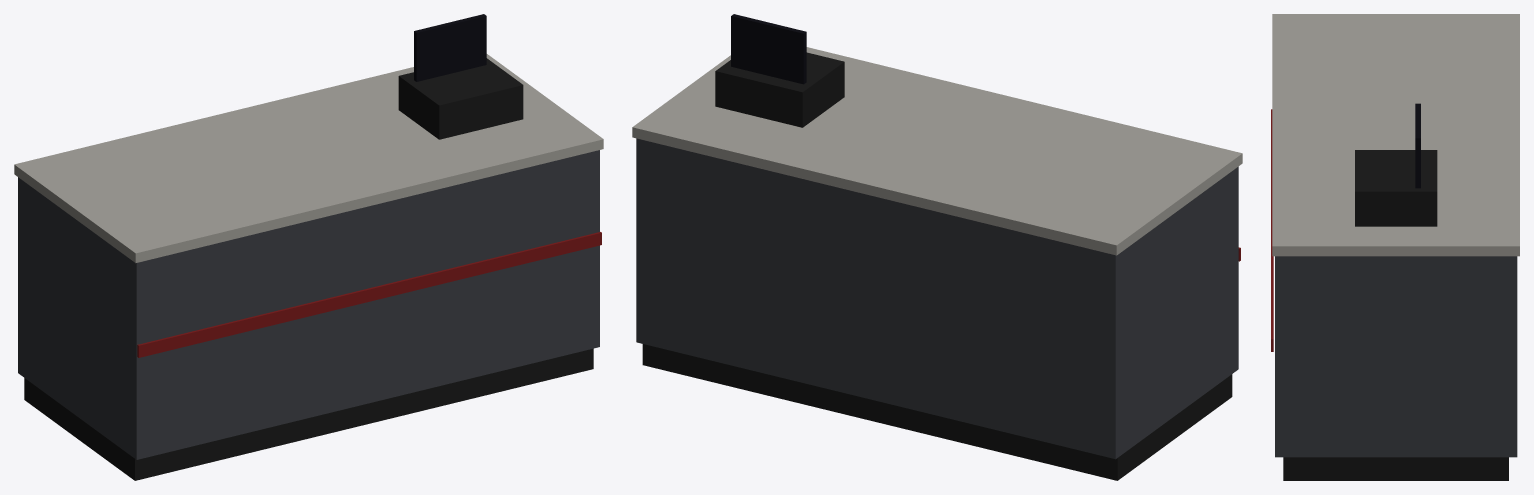
Rendered from counter_200_95_90.glb.
The picture shows the model from 3 angles, left to right: view 1: azimuth 30°, elevation 25°; view 2: azimuth 150°, elevation 25°; view 3: azimuth 270°, elevation 25°; orthographic projection. The views are drawn at different scales.
Visible parts, largest first — view 1: counter_200_95_90; view 2: counter_200_95_90; view 3: counter_200_95_90.
Part boxes in pixels (x1,y1,x2,y2): counter_200_95_90: (14,14,603,480); counter_200_95_90: (632,14,1242,480); counter_200_95_90: (1271,14,1519,480).
Bounding box in the file's own units: 2 × 1.29 × 0.905.
